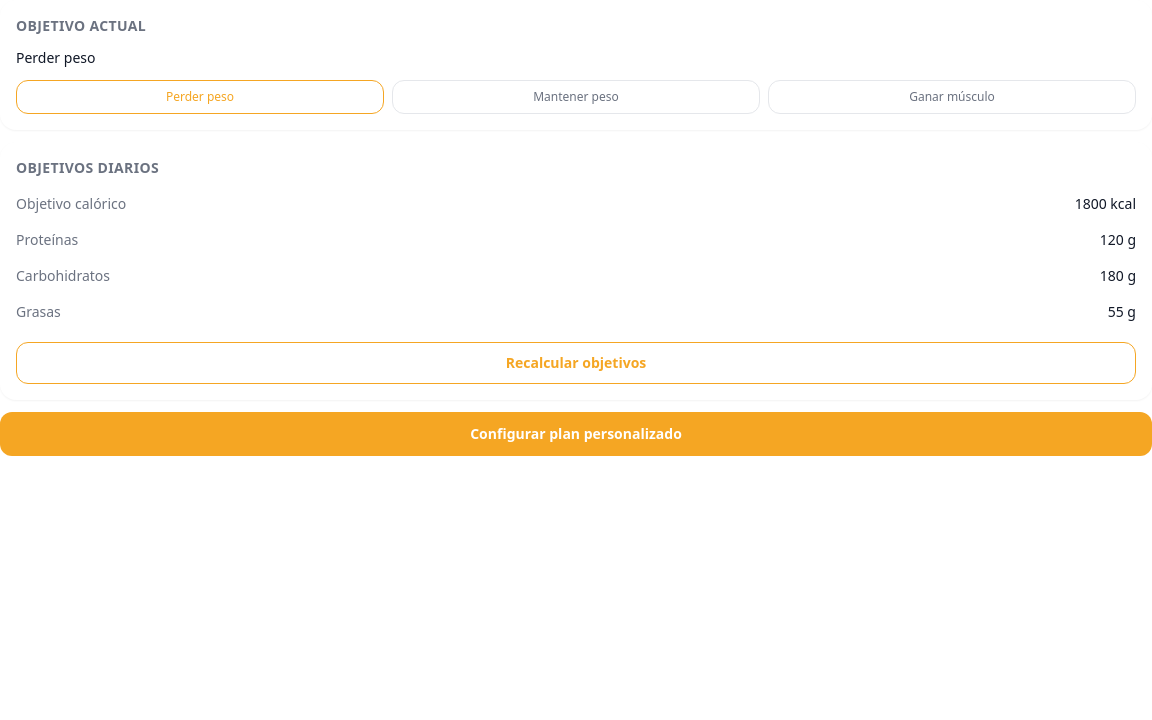
Test: PlanRoute › interactive goal selector › opens a preview with current vs new computed targets for a different goal
What coordinates should you click on to do the following:
click the button "Ganar músculo"
I would click on:
 (952, 97)
Its box is [768,80,1136,114].
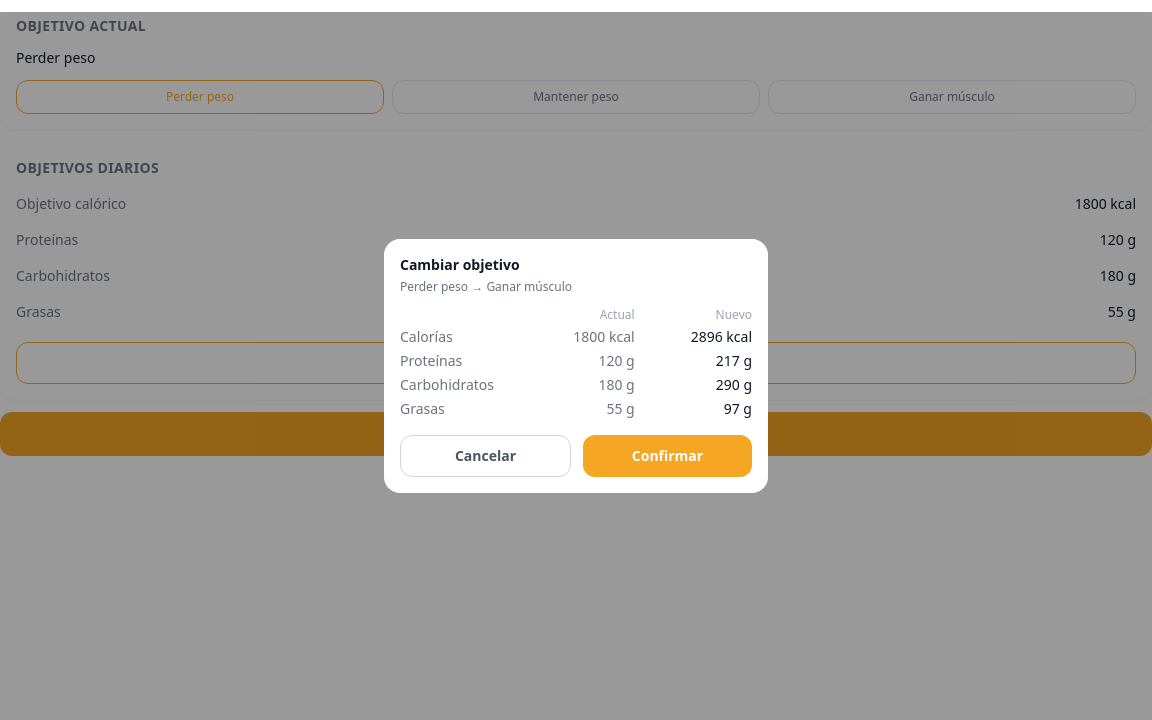
Check: the text "97 g" is shown, box [724,399,752,418]
Check: the text "1800 kcal" is shown, box [573,327,635,346]
